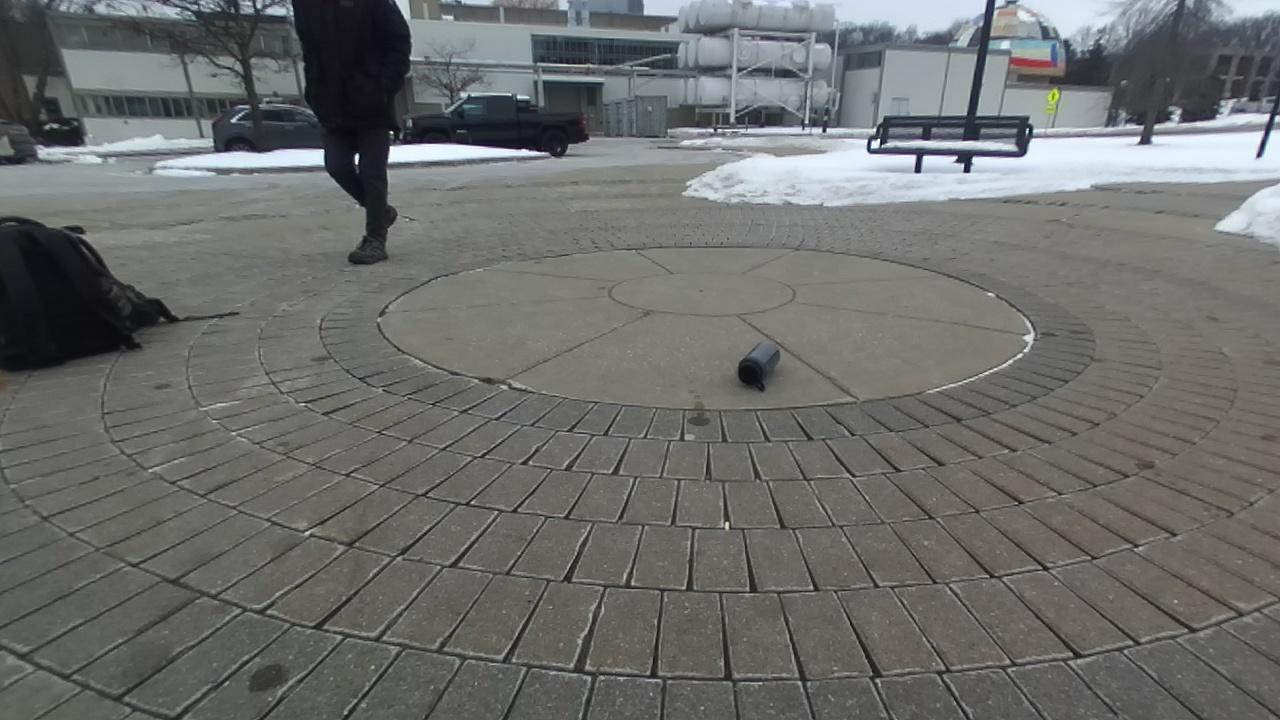bottle: (738, 342, 780, 391)
